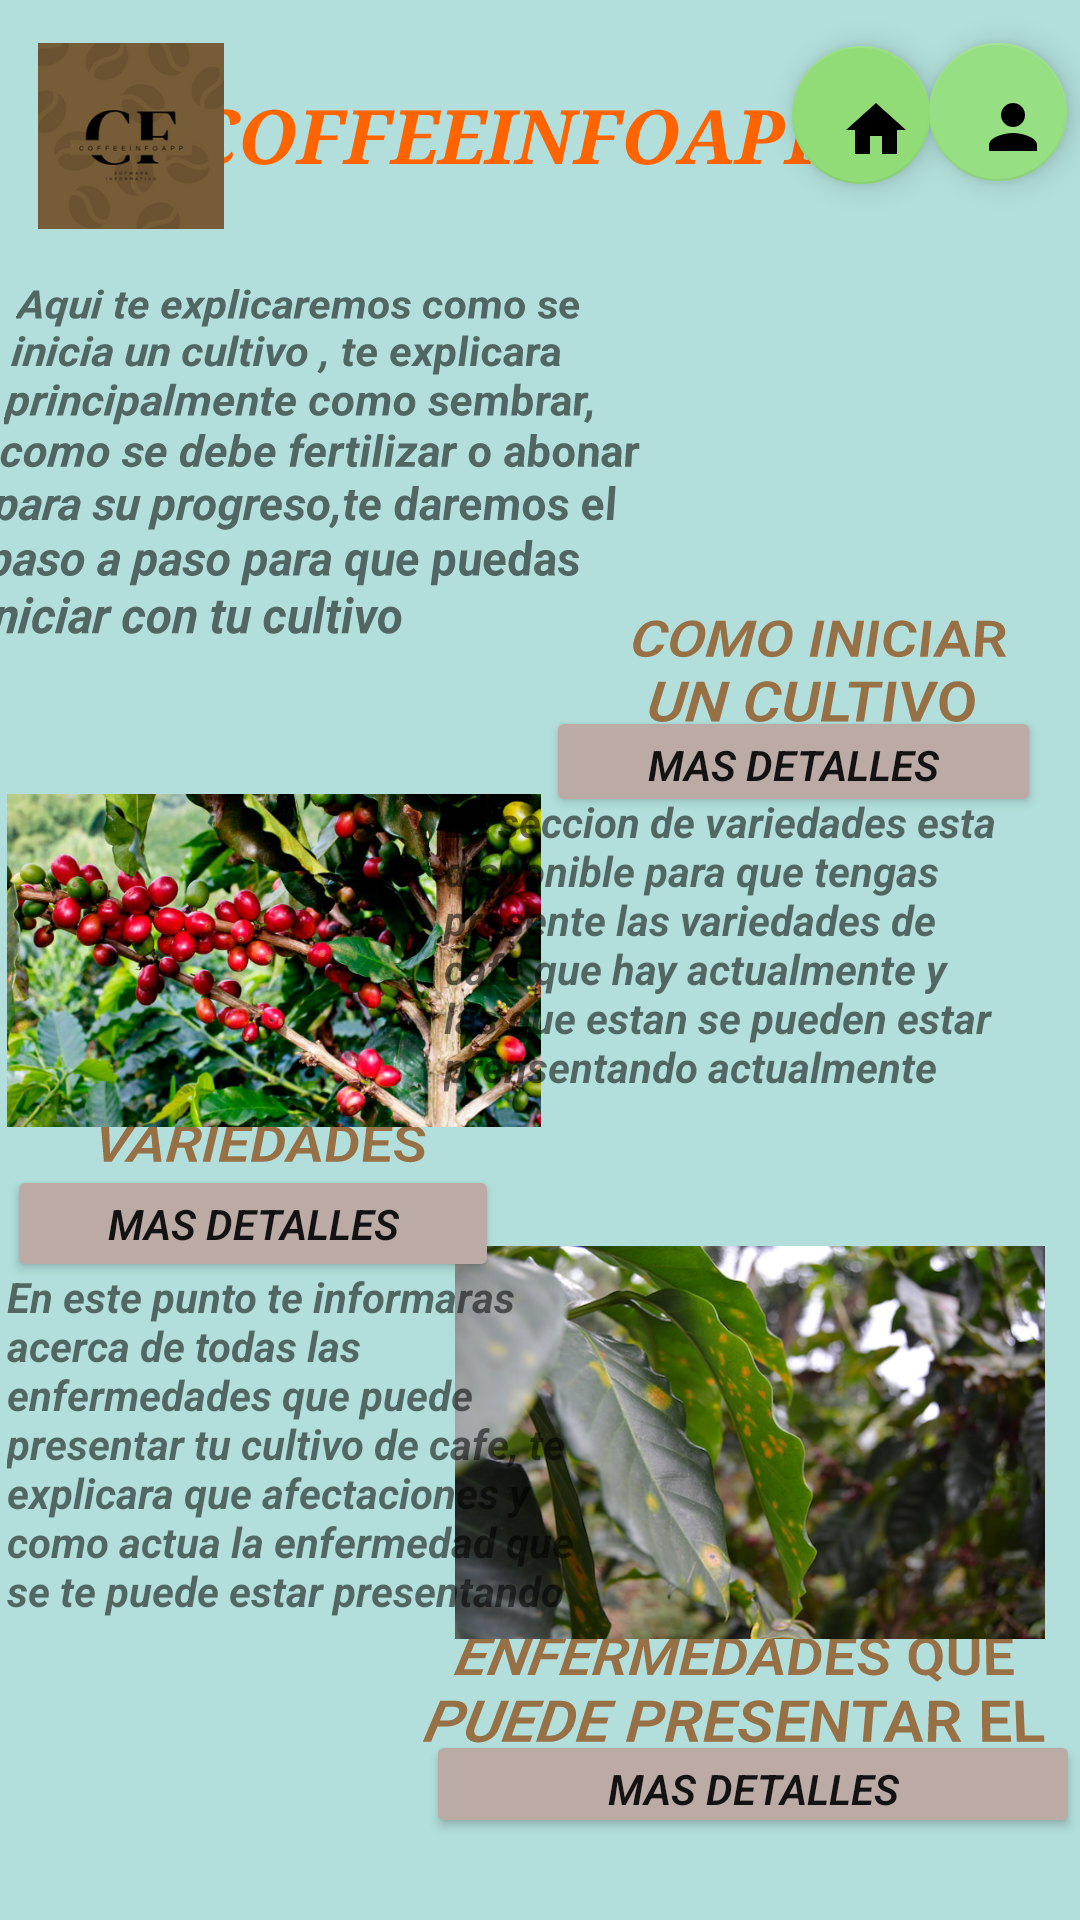

Named icons in this screenshot (1080×1920) and their bounding boxes, (x1, y1, x2, y2):
inicio: (792, 46, 930, 184)
perfil: (929, 43, 1067, 181)
